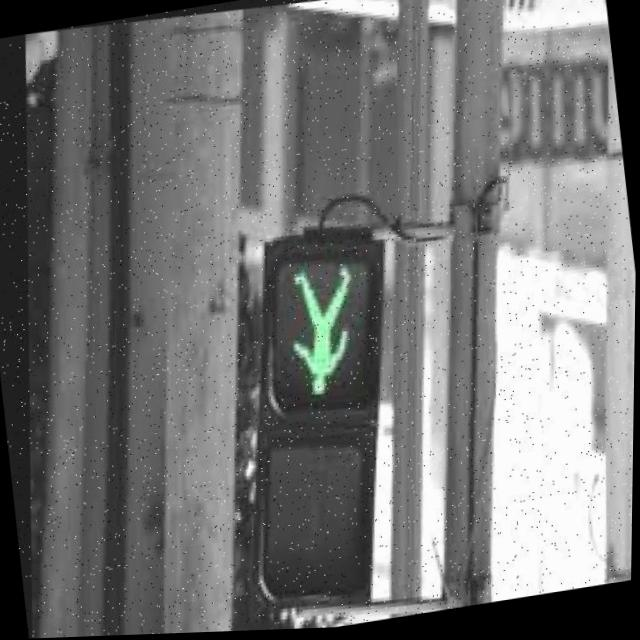green_light: (256, 250, 378, 411)
